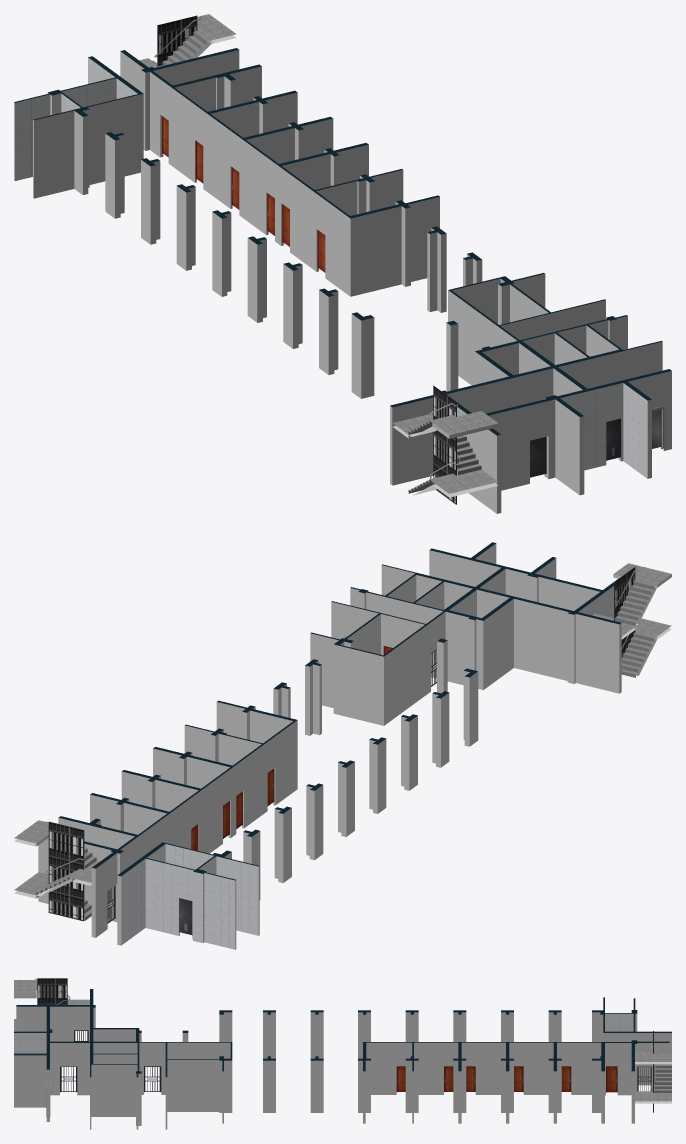
The model's file is hkjls_hkjls_f01_in_T005.obj.
3 renders of one model, top to bottom at view 1: azimuth 30°, elevation 25°; view 2: azimuth 150°, elevation 25°; view 3: azimuth 270°, elevation 25°, orthographic. The views are drawn at different scales.
Parts seen in each view (by area): view 1: hkjls_hkjls_f01_in_010_H005, hkjls_hkjls_f01_in_011_H005, hkjls_hkjls_f01_in_012_H005, hkjls_hkjls_f01_in_006_H005, hkjls_hkjls_f01_in_002_H005, hkjls_hkjls_f01_in_005_H005; view 2: hkjls_hkjls_f01_in_010_H005, hkjls_hkjls_f01_in_011_H005, hkjls_hkjls_f01_in_012_H005, hkjls_hkjls_f01_in_002_H005, hkjls_hkjls_f01_in_005_H005, hkjls_hkjls_f01_in_006_H005; view 3: hkjls_hkjls_f01_in_010_H005, hkjls_hkjls_f01_in_012_H005, hkjls_hkjls_f01_in_011_H005, hkjls_hkjls_f01_in_006_H005, hkjls_hkjls_f01_in_002_H005, hkjls_hkjls_f01_in_005_H005, hkjls_hkjls_f01_in_008_H005, hkjls_hkjls_f01_in_012_r_T001, hkjls_hkjls_f01_in_018_l_T001, hkjls_hkjls_f01_in_010_l_T001, hkjls_hkjls_f01_in_009_H005, hkjls_hkjls_f01_in_017_l_T001 (+2 smaller).
Boxes of the visible parts, x1,y1,x2,y2 form: hkjls_hkjls_f01_in_010_H005: (33, 30, 671, 513); hkjls_hkjls_f01_in_011_H005: (14, 57, 647, 478); hkjls_hkjls_f01_in_012_H005: (14, 48, 671, 435); hkjls_hkjls_f01_in_006_H005: (139, 14, 497, 493); hkjls_hkjls_f01_in_002_H005: (159, 16, 455, 502); hkjls_hkjls_f01_in_005_H005: (143, 30, 481, 493); hkjls_hkjls_f01_in_010_H005: (14, 550, 671, 945); hkjls_hkjls_f01_in_011_H005: (121, 543, 496, 949); hkjls_hkjls_f01_in_012_H005: (58, 542, 621, 880); hkjls_hkjls_f01_in_002_H005: (49, 568, 634, 919); hkjls_hkjls_f01_in_005_H005: (36, 580, 656, 920); hkjls_hkjls_f01_in_006_H005: (14, 563, 671, 895); hkjls_hkjls_f01_in_010_H005: (14, 988, 671, 1129); hkjls_hkjls_f01_in_012_H005: (14, 989, 671, 1077); hkjls_hkjls_f01_in_011_H005: (14, 1013, 637, 1053); hkjls_hkjls_f01_in_006_H005: (14, 980, 671, 1101); hkjls_hkjls_f01_in_002_H005: (38, 978, 66, 1004); hkjls_hkjls_f01_in_005_H005: (36, 980, 671, 1092); hkjls_hkjls_f01_in_008_H005: (37, 978, 653, 1112); hkjls_hkjls_f01_in_012_r_T001: (144, 1066, 160, 1091); hkjls_hkjls_f01_in_018_l_T001: (606, 1067, 617, 1092); hkjls_hkjls_f01_in_010_l_T001: (60, 1066, 76, 1091); hkjls_hkjls_f01_in_009_H005: (396, 1066, 617, 1092); hkjls_hkjls_f01_in_017_l_T001: (561, 1066, 570, 1091).
Bounding box in the file's own units: 1446 × 545 × 4556.
14 materials, 14 textured.
